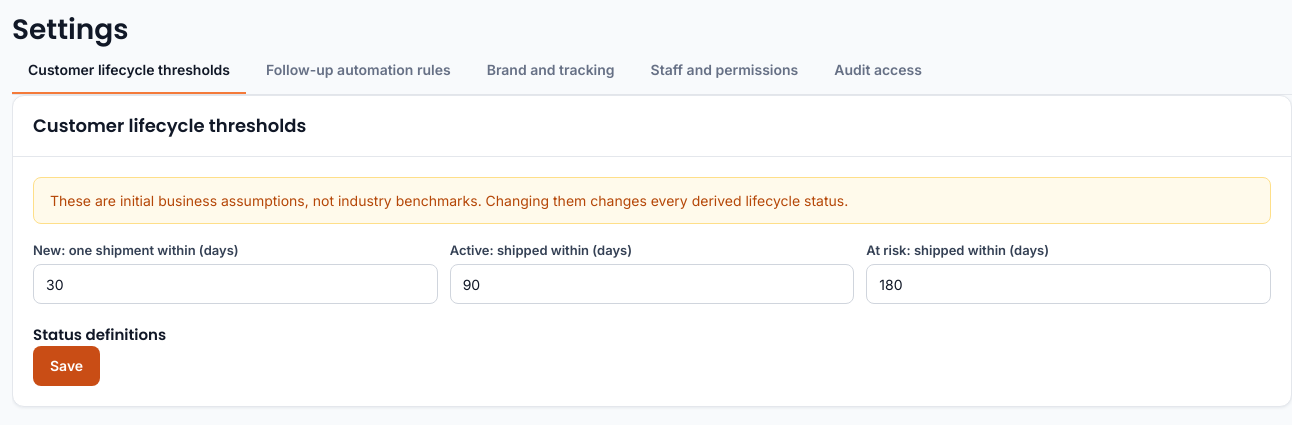
Test case: Settings › Staff and permissions › offers to reactivate a deactivated account
The width and height of the screenshot is (1292, 425).
Expected: the heading "Settings" is shown, [12, 12, 129, 48]
Click the tab "Staff and permissions": [724, 71] box [635, 48, 814, 94]
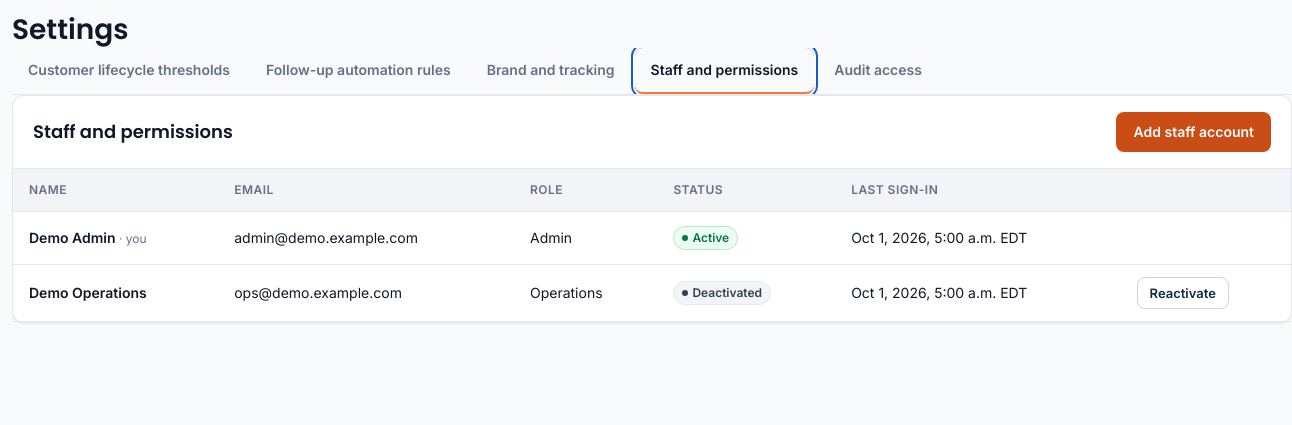
Expected: the text "Deactivated" is shown, [673, 281, 771, 305]
Expected: the button "Reactivate" is shown, [1137, 276, 1229, 308]
